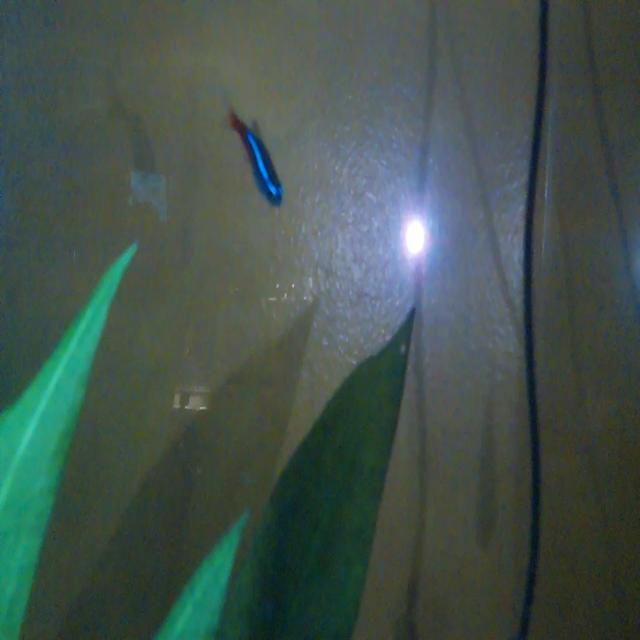fish: (221, 105, 288, 212)
